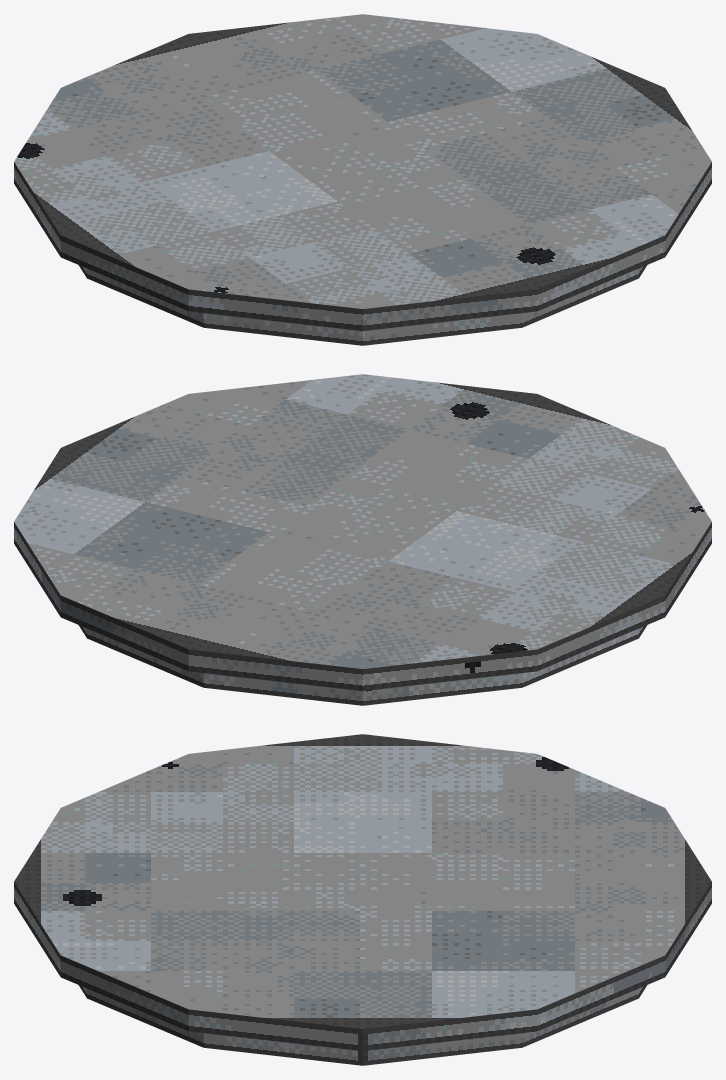
Rendered from SM_Plate_Tin_01.glb.
3 renders of one model, top to bottom at view 1: azimuth 30°, elevation 25°; view 2: azimuth 150°, elevation 25°; view 3: azimuth 270°, elevation 25°, orthographic.
Visible parts, largest first — view 1: SM_Plate_Tin_01; view 2: SM_Plate_Tin_01; view 3: SM_Plate_Tin_01.
Boxes of the visible parts, box(x1,y1,x2,y2) form: SM_Plate_Tin_01: box(14, 14, 711, 345); SM_Plate_Tin_01: box(14, 374, 711, 705); SM_Plate_Tin_01: box(14, 734, 711, 1065).
Size of the model in its own units: 0.23 by 0.018 by 0.23.
1 material, 1 textured.
